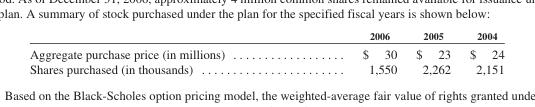table: (28, 29, 503, 75)
table column: (28, 29, 292, 75), (292, 29, 405, 75), (405, 29, 459, 75), (459, 29, 503, 75)
table column header: (28, 29, 503, 43)
table row: (28, 43, 503, 61), (28, 29, 503, 43), (28, 61, 503, 75)
